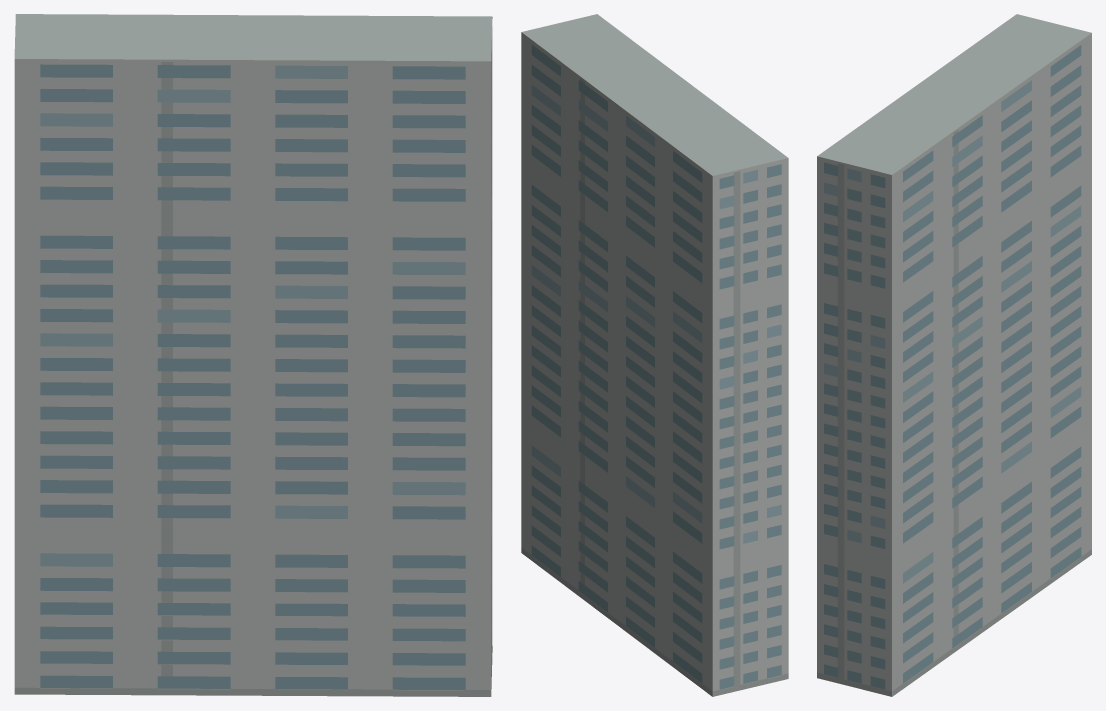
The model's file is residential-7e6f6d87-d2ca-4d00-b25e-58ebfce2dad1.glb.
3 views of the same model, side by side, from view 1: azimuth 30°, elevation 25°; view 2: azimuth 150°, elevation 25°; view 3: azimuth 270°, elevation 25° (orthographic). The views are drawn at different scales.
Parts seen in each view (by area): view 1: residential-7e6f6d87-d2ca-4d00-b25e-58ebfce2dad1.tmp; view 2: residential-7e6f6d87-d2ca-4d00-b25e-58ebfce2dad1.tmp; view 3: residential-7e6f6d87-d2ca-4d00-b25e-58ebfce2dad1.tmp.
Part boxes in pixels (left/top/right/bottom): residential-7e6f6d87-d2ca-4d00-b25e-58ebfce2dad1.tmp: left=14, top=14, right=492, bottom=696; residential-7e6f6d87-d2ca-4d00-b25e-58ebfce2dad1.tmp: left=521, top=14, right=788, bottom=696; residential-7e6f6d87-d2ca-4d00-b25e-58ebfce2dad1.tmp: left=817, top=14, right=1091, bottom=696.
Bounding box in the file's own units: 47.66 × 72 × 34.37.
